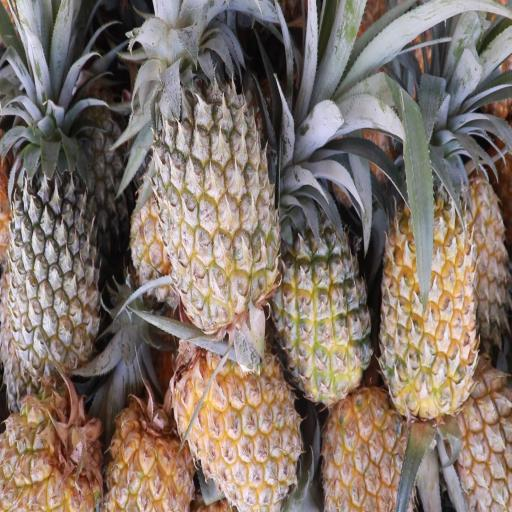------------------------------: (150, 5, 284, 339), (270, 160, 374, 413)
Pineapple - v8 v1: (376, 122, 484, 422), (170, 332, 309, 511), (0, 384, 110, 512), (324, 378, 426, 512), (103, 388, 202, 510), (445, 504, 451, 512)
